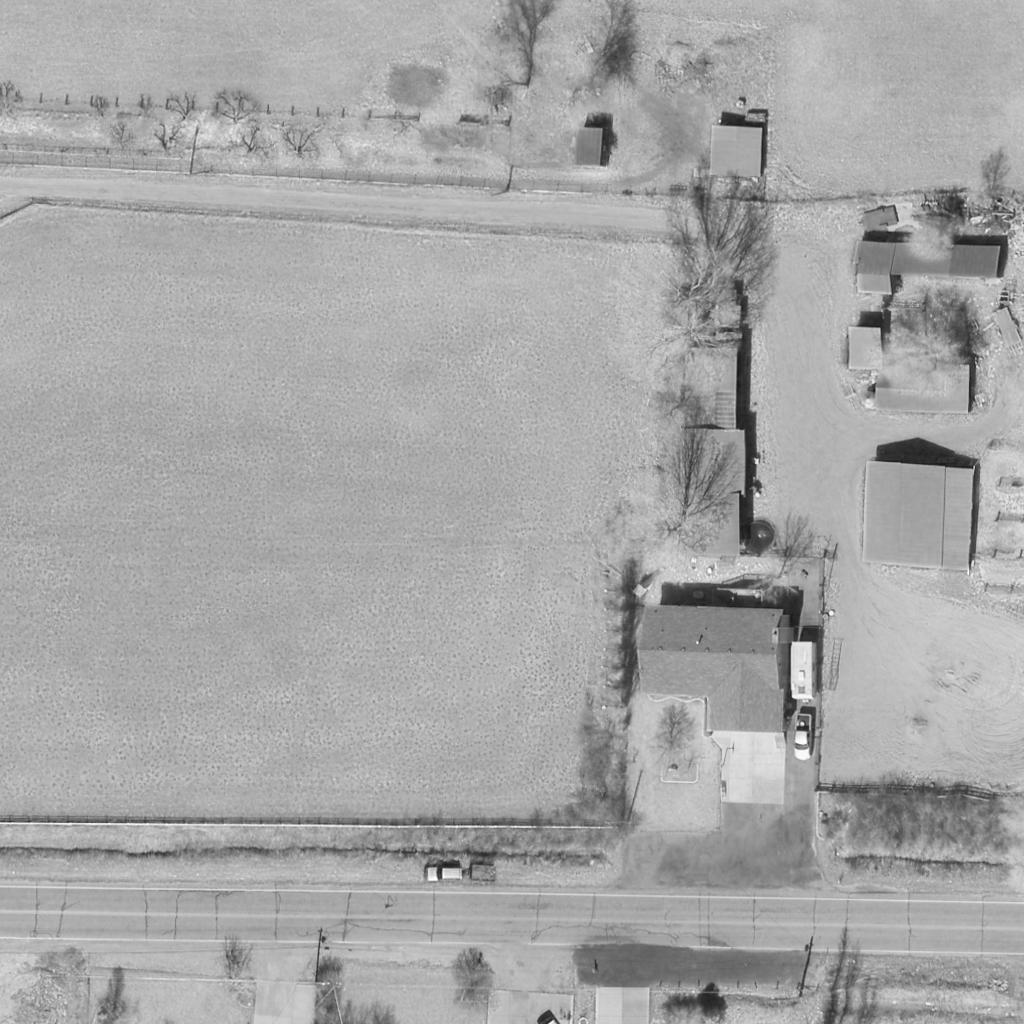vehicle: (788, 642, 820, 702), (792, 713, 816, 763), (424, 867, 464, 883)
